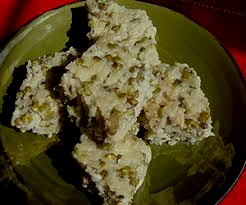kiribath: (57, 28, 161, 147), (72, 125, 151, 204), (13, 47, 81, 134), (140, 61, 210, 143)
